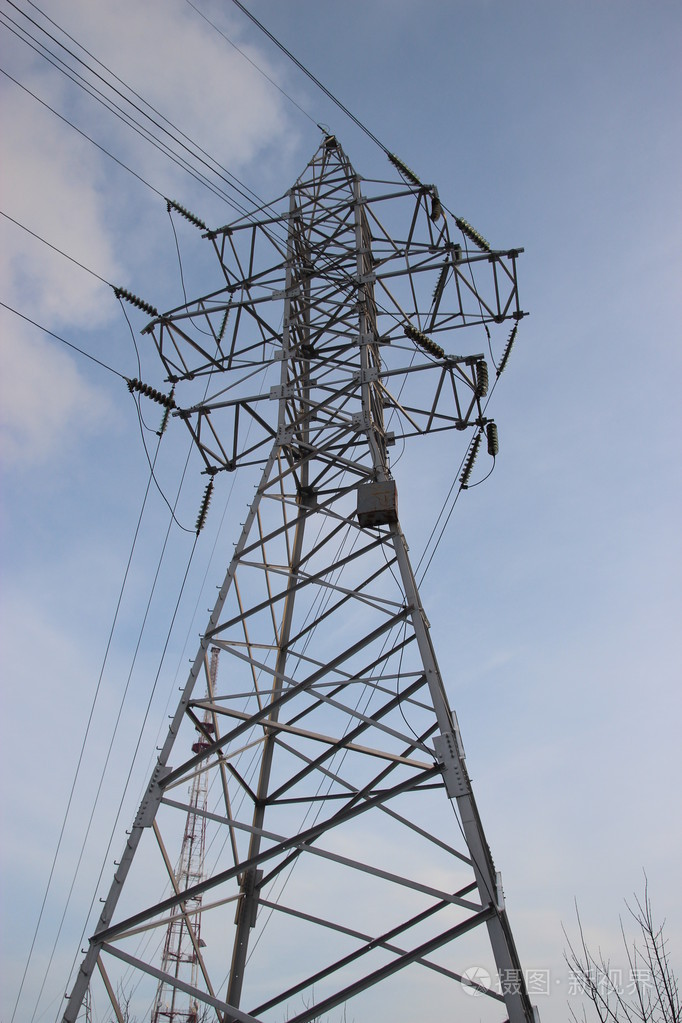insulator: (127, 374, 172, 409), (115, 284, 163, 314), (402, 323, 446, 355), (383, 149, 423, 184), (172, 198, 205, 235), (460, 435, 480, 487), (458, 217, 489, 248), (192, 486, 211, 533), (485, 422, 503, 460)
